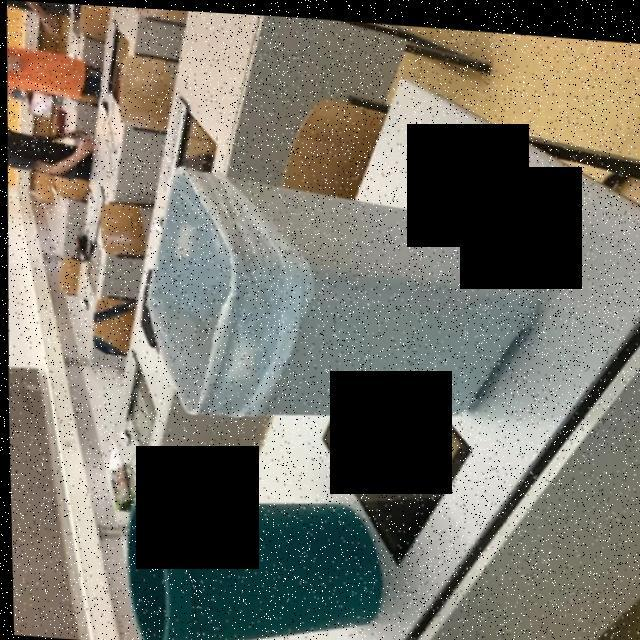bin: (103, 137, 557, 454), (103, 476, 386, 640)
